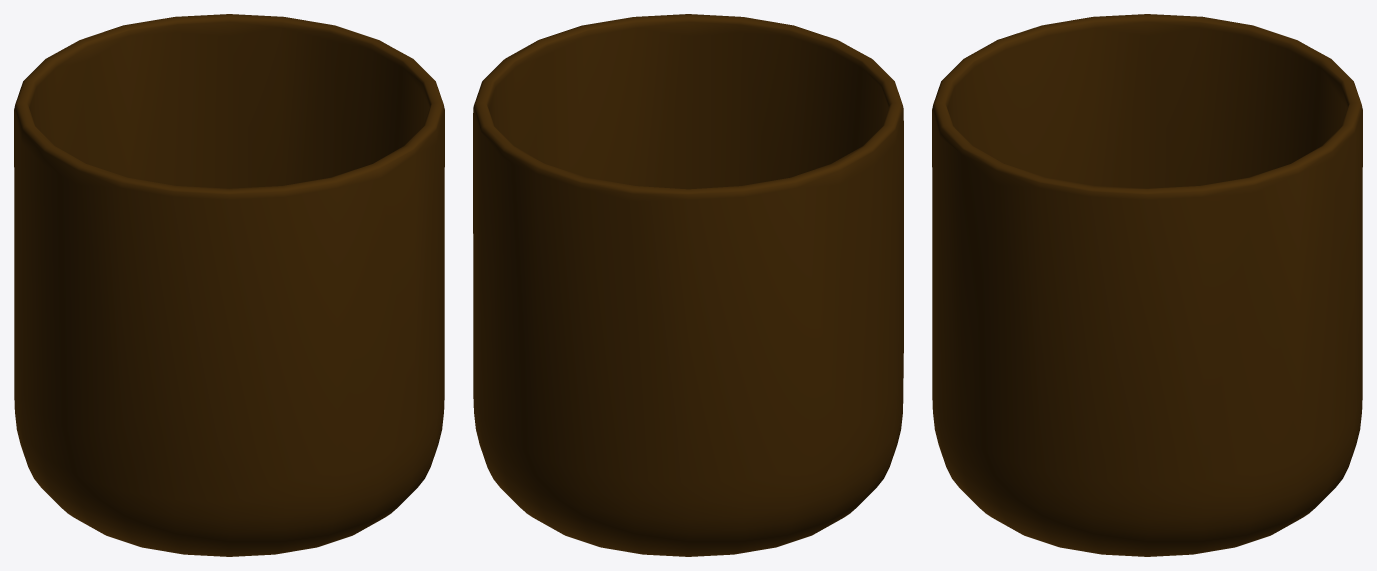
The model's file is Glass.FBX.
3 views of the same model, side by side, from view 1: azimuth 30°, elevation 25°; view 2: azimuth 150°, elevation 25°; view 3: azimuth 270°, elevation 25° (orthographic).
Parts seen in each view (by area): view 1: Glass; view 2: Glass; view 3: Glass.
Boxes of the visible parts, x1,y1,x2,y2 form: Glass: (14,14,444,556); Glass: (473,14,903,556); Glass: (932,14,1362,556).
Size of the model in its own units: 8.04 by 7.97 by 8.08.
1 material, 1 textured.
